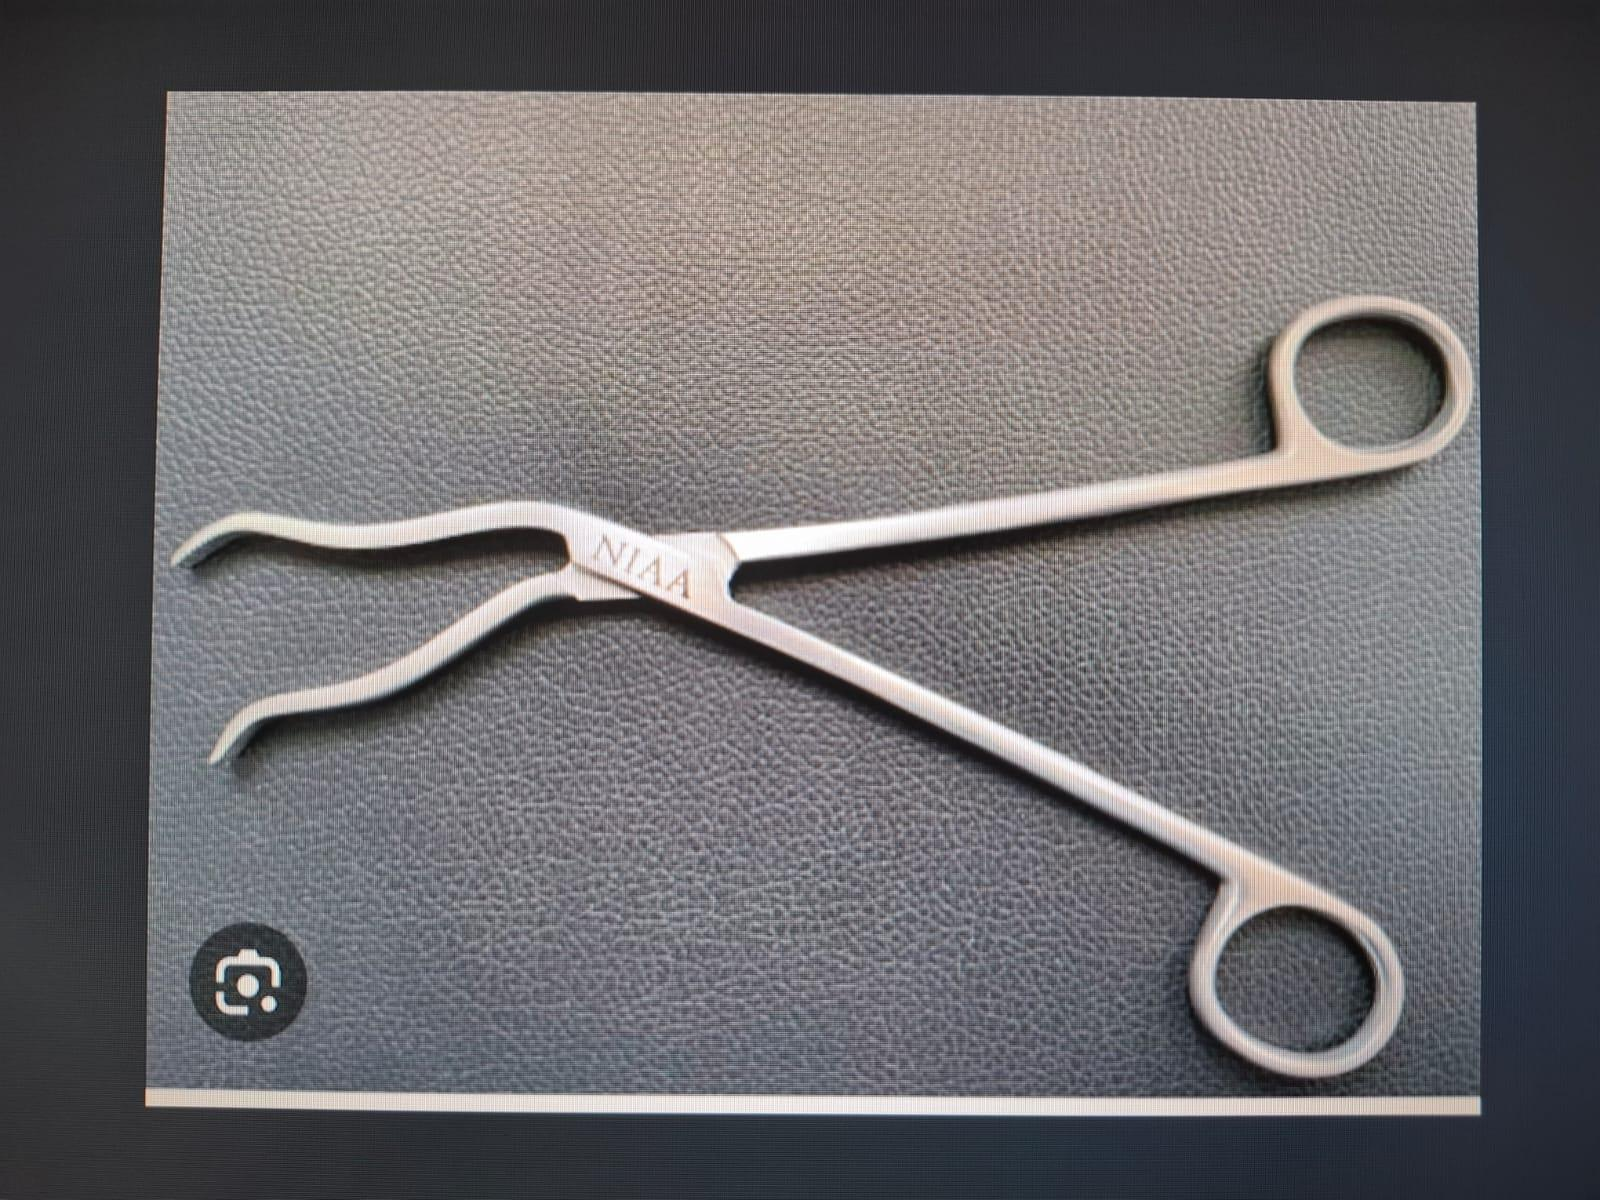Cheatle Forceps: (157, 268, 1478, 1084)
